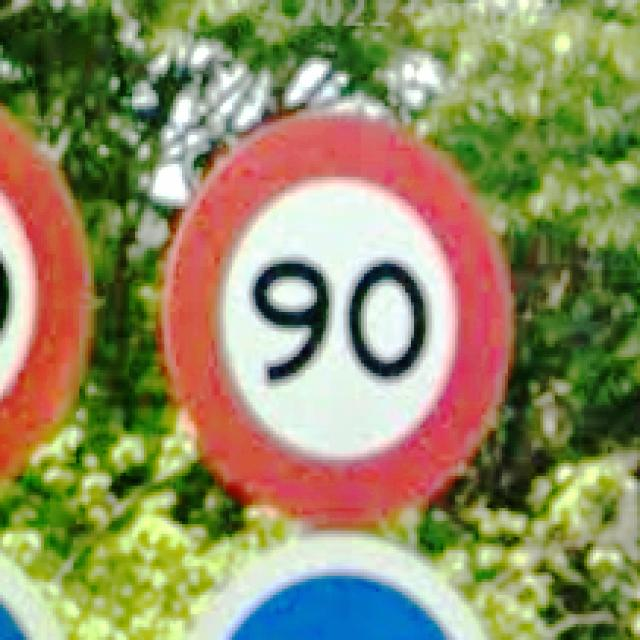max90: (156, 106, 514, 528)
